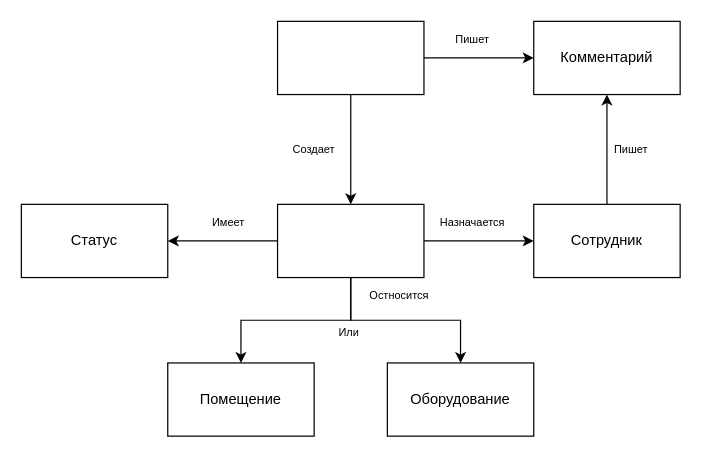
Some shapes in this 702 by 458 pixel diagram are drawn without their labels. Each missing label, with the centre of its shape:
Заявка: pixel 350 240
Пользователь: pixel 350 57
